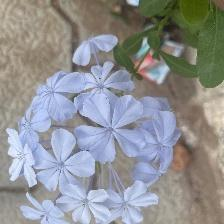chitrak: (78, 94, 143, 163), (38, 131, 97, 191), (142, 109, 185, 166), (109, 180, 163, 224), (59, 181, 109, 224), (73, 25, 125, 66), (38, 68, 78, 120), (84, 62, 139, 96), (5, 125, 38, 181), (21, 189, 66, 224), (21, 106, 49, 148)
